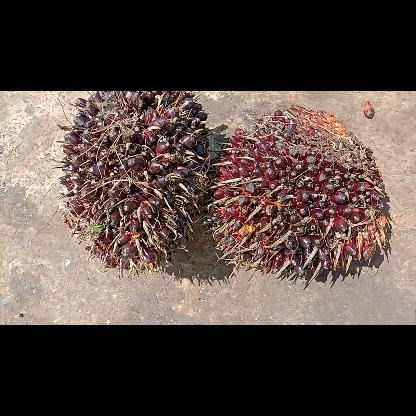TBS mentah: (209, 103, 388, 281), (57, 91, 207, 273)
